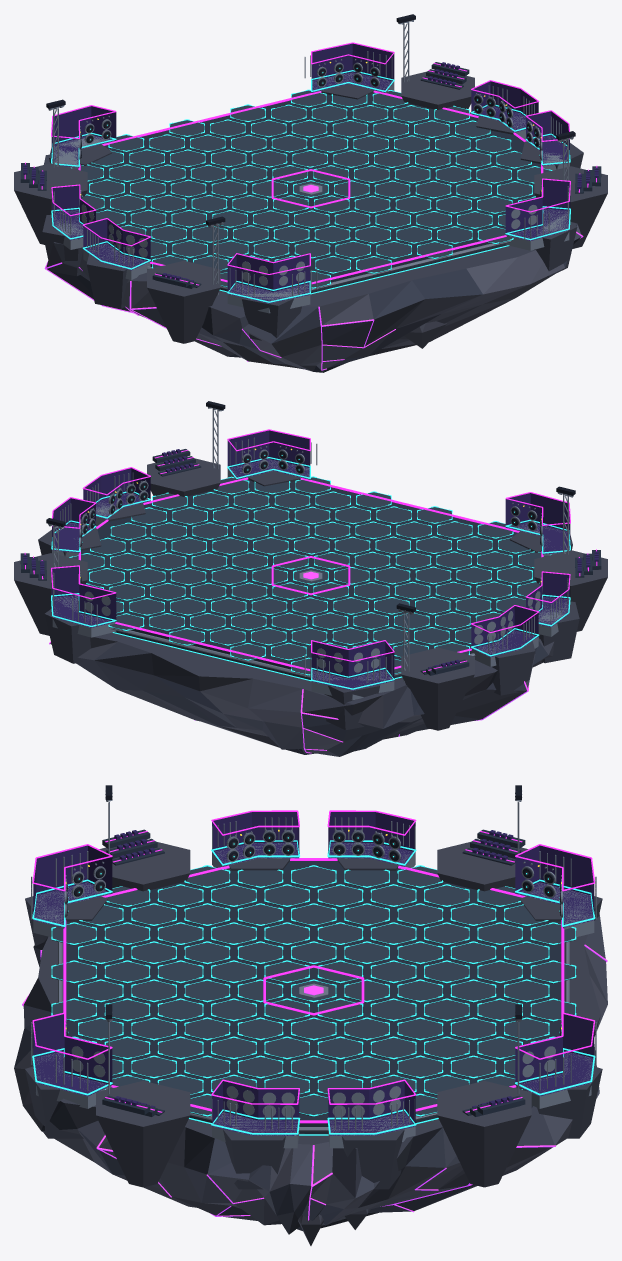
File: cosmic-arena.glb
The picture shows the model from 3 angles, top to bottom: view 1: azimuth 30°, elevation 25°; view 2: azimuth 150°, elevation 25°; view 3: azimuth 270°, elevation 25°; orthographic projection. The views are drawn at different scales.
Visible parts, largest first — view 1: Stage — Hex ceramic, Stage — Obsidian stage, Island — Basalt facet 03, Stage — Hex cyan, Island — Basalt facet 04, Island — Basalt facet 07, Island — Basalt facet 01, Island — Basalt facet 06, Amp_SE — Amp midnight indigo, Amp_NW — Amp midnight indigo, Amp_NE — Amp midnight indigo, Island — Basalt facet 00 (+22 smaller); view 2: Stage — Hex ceramic, Stage — Obsidian stage, Island — Basalt facet 03, Island — Basalt facet 04, Stage — Hex cyan, Island — Basalt facet 02, Amp_SW — Amp midnight indigo, Amp_NE — Amp midnight indigo, Island — Basalt facet 05, Amp_SE — Amp midnight indigo, Island — Basalt facet 06, Amp_NW — Amp midnight indigo (+20 smaller); view 3: Stage — Hex ceramic, Stage — Obsidian stage, Island — Basalt facet 04, Island — Basalt facet 03, Stage — Hex cyan, Island — Basalt facet 02, Island — Basalt facet 06, Amp_NE — Amp midnight indigo, Amp_SE — Amp midnight indigo, Amp_NW — Amp midnight indigo, Amp_SW — Amp midnight indigo, Island — Basalt facet 01 (+23 smaller).
Boxes of the visible parts, box(x1,y1,x2,y2) form: Stage — Hex ceramic: box(74, 90, 550, 288); Stage — Obsidian stage: box(86, 92, 540, 293); Island — Basalt facet 03: box(42, 84, 583, 346); Stage — Hex cyan: box(71, 89, 552, 294); Island — Basalt facet 04: box(14, 69, 607, 358); Island — Basalt facet 07: box(131, 250, 564, 368); Island — Basalt facet 01: box(133, 280, 440, 355); Island — Basalt facet 06: box(122, 224, 581, 371); Amp_SE — Amp midnight indigo: box(311, 43, 394, 92); Amp_NW — Amp midnight indigo: box(227, 254, 310, 303); Amp_NE — Amp midnight indigo: box(505, 179, 570, 240); Island — Basalt facet 00: box(47, 224, 580, 372); Stage — Hex ceramic: box(71, 477, 547, 675); Stage — Obsidian stage: box(81, 479, 535, 679); Island — Basalt facet 03: box(38, 471, 579, 752); Island — Basalt facet 04: box(14, 456, 607, 730); Stage — Hex cyan: box(69, 476, 551, 681); Island — Basalt facet 02: box(76, 642, 480, 756); Amp_SW — Amp midnight indigo: box(311, 641, 394, 690); Amp_NE — Amp midnight indigo: box(227, 430, 310, 479); Island — Basalt facet 05: box(195, 639, 554, 749); Amp_SE — Amp midnight indigo: box(51, 566, 116, 627); Island — Basalt facet 06: box(50, 637, 398, 738); Amp_NW — Amp midnight indigo: box(505, 493, 570, 554); Stage — Hex ceramic: box(52, 866, 575, 1116); Stage — Obsidian stage: box(66, 861, 561, 1133); Island — Basalt facet 04: box(96, 839, 607, 1229); Island — Basalt facet 03: box(25, 858, 605, 1208); Stage — Hex cyan: box(51, 865, 576, 1135); Island — Basalt facet 02: box(184, 1044, 599, 1234); Island — Basalt facet 06: box(41, 976, 607, 1245); Amp_NE — Amp midnight indigo: box(33, 1014, 112, 1096); Amp_SE — Amp midnight indigo: box(515, 1014, 594, 1096); Amp_NW — Amp midnight indigo: box(33, 845, 112, 927); Amp_SW — Amp midnight indigo: box(515, 845, 594, 927); Island — Basalt facet 01: box(23, 937, 445, 1225).
Bounding box in the file's own units: 26.89 × 13.19 × 21.75.
